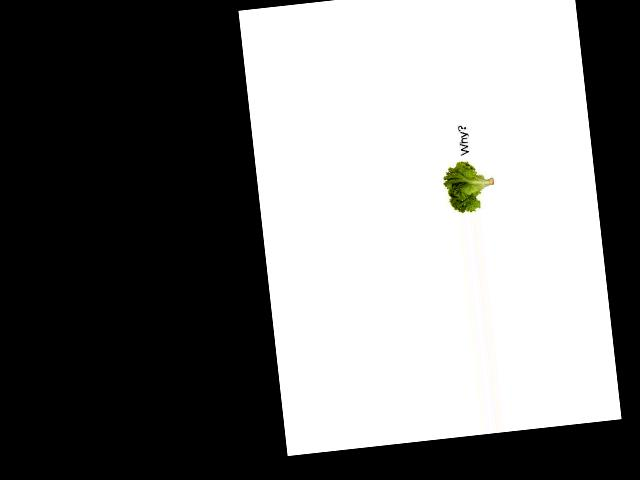lettuce: (440, 153, 497, 216)
